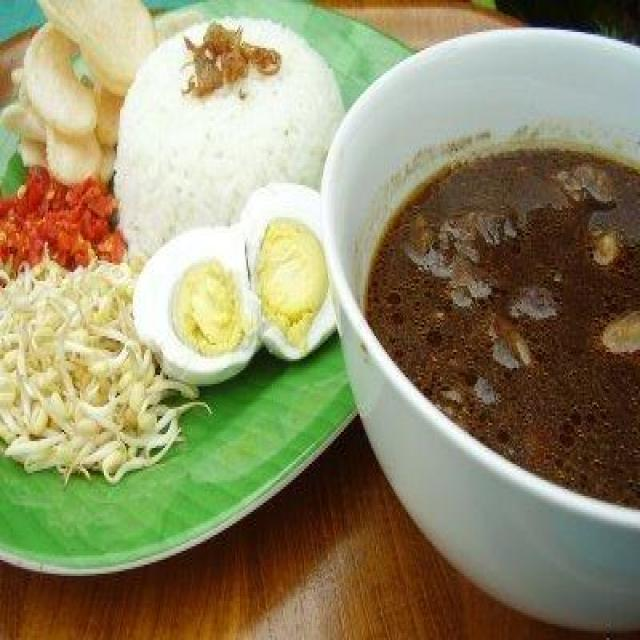Rawon: (363, 106, 640, 492)
